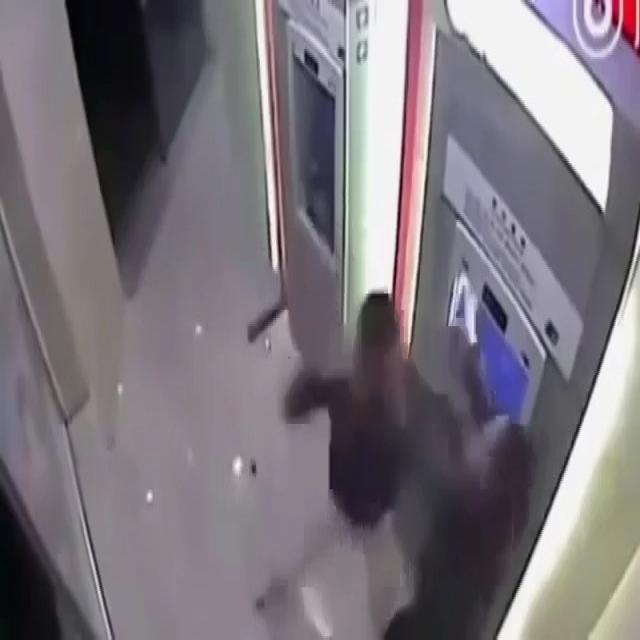fight: (283, 283, 528, 639)
